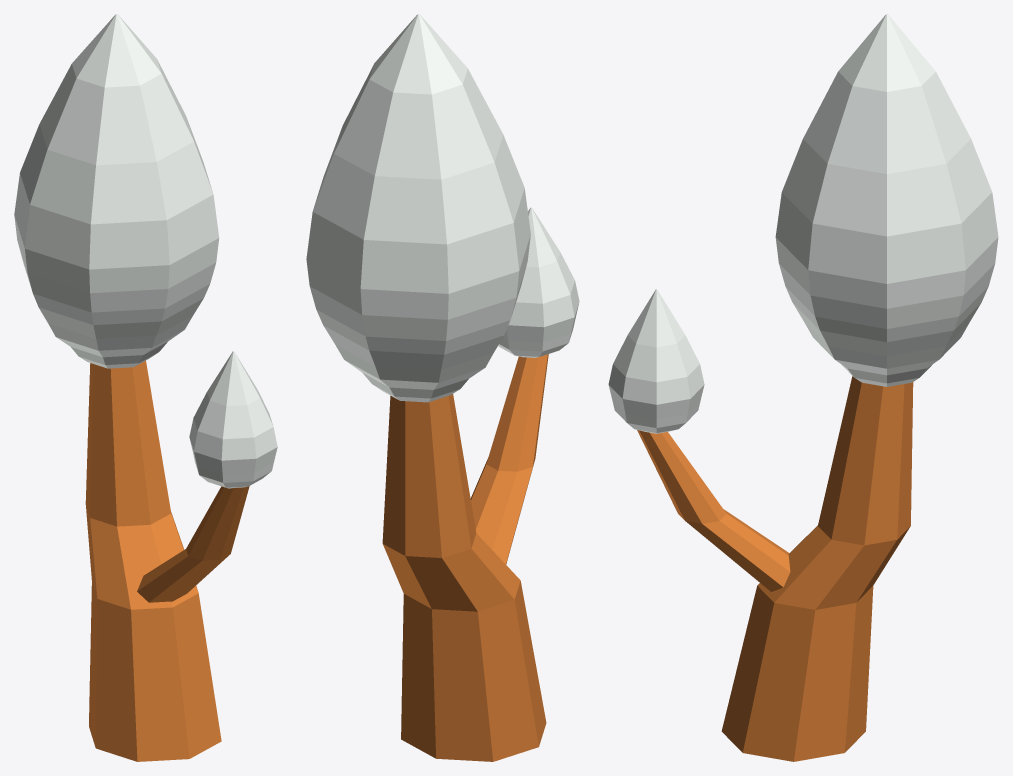
Rendered from Tree2.fbx.
The picture shows the model from 3 angles, left to right: view 1: azimuth 30°, elevation 25°; view 2: azimuth 150°, elevation 25°; view 3: azimuth 270°, elevation 25°; orthographic projection. The views are drawn at different scales.
Parts seen in each view (by area): view 1: Cylinder.001, Cylinder; view 2: Cylinder.001, Cylinder; view 3: Cylinder.001, Cylinder.
Part boxes in pixels (left/top/right/bottom): Cylinder.001: left=14, top=14, right=277, bottom=488; Cylinder: left=85, top=360, right=249, bottom=761; Cylinder.001: left=306, top=14, right=579, bottom=402; Cylinder: left=382, top=354, right=548, bottom=761; Cylinder.001: left=608, top=14, right=998, bottom=433; Cylinder: left=637, top=376, right=913, bottom=761.
Size of the model in its own units: 309 by 1100 by 540.
